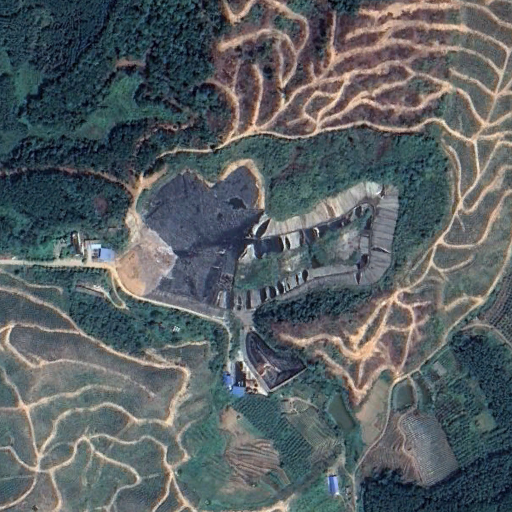lf: (117, 165, 398, 312)
